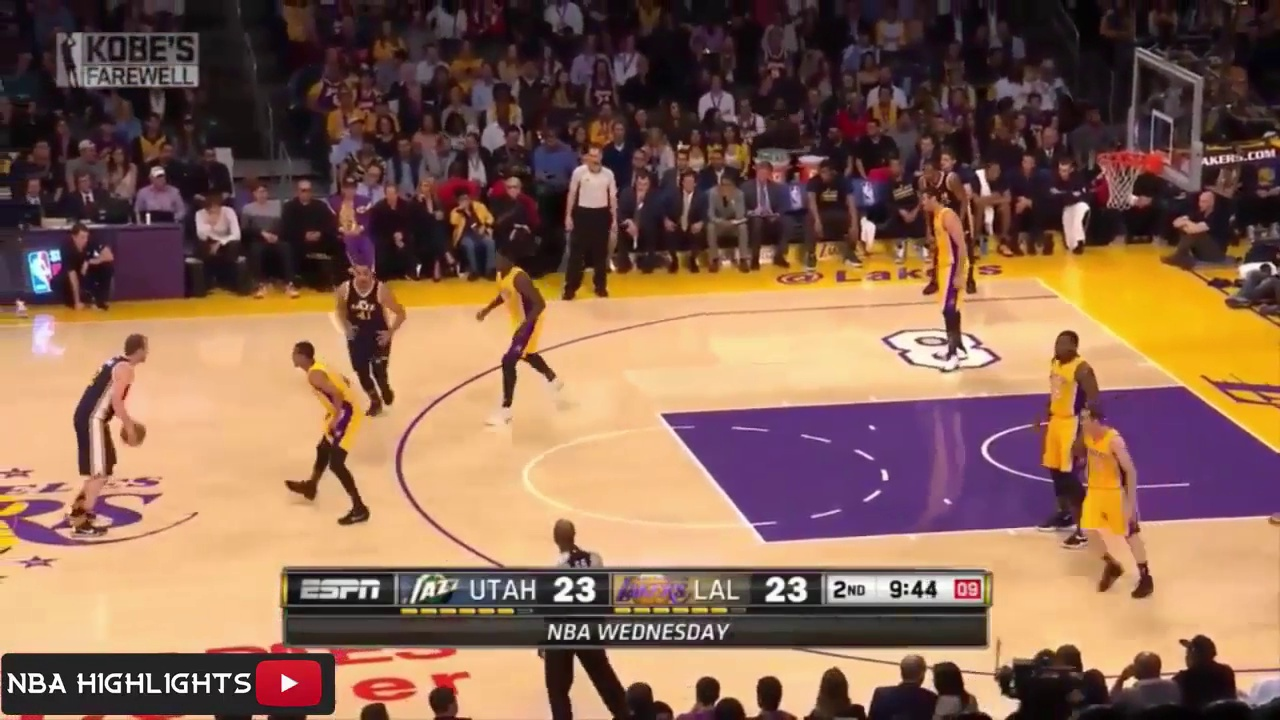jazz: (54, 336, 167, 542), (339, 263, 408, 414), (918, 168, 969, 287)
lakers: (278, 337, 373, 530), (473, 242, 564, 425), (1079, 413, 1159, 605), (921, 192, 975, 371), (1045, 329, 1089, 538)
